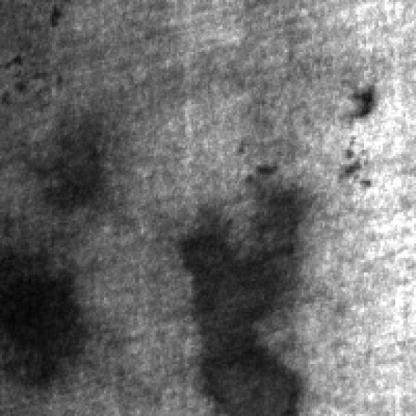patches: (166, 168, 308, 414), (0, 231, 81, 387), (27, 108, 108, 208)
